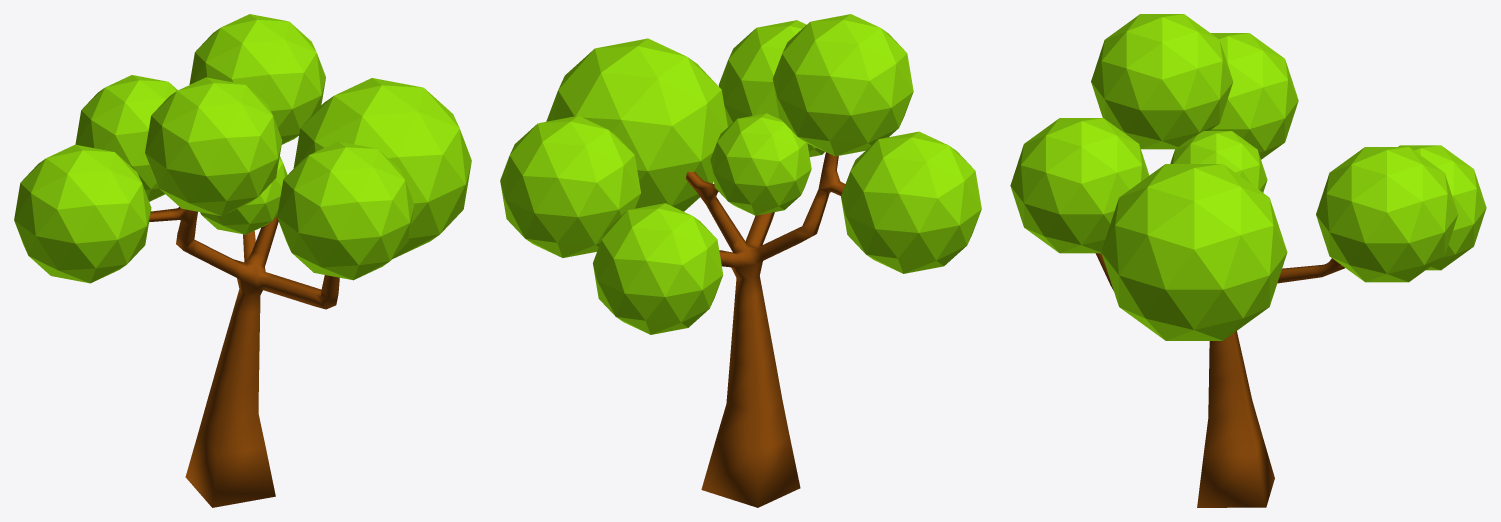
Rendered from tree.glb.
3 views of the same model, side by side, from view 1: azimuth 30°, elevation 25°; view 2: azimuth 150°, elevation 25°; view 3: azimuth 270°, elevation 25° (orthographic). The views are drawn at different scales.
Visible parts, largest first — view 1: Branch.002, Icosphere.008, Icosphere.009, Icosphere.007, Icosphere.010, Icosphere.012, Icosphere.013, Icosphere.011; view 2: Branch.002, Icosphere.010, Icosphere.007, Icosphere.008, Icosphere.012, Icosphere.013, Icosphere.011, Icosphere.009; view 3: Icosphere.010, Icosphere.012, Icosphere.008, Icosphere.009, Branch.002, Icosphere.007, Icosphere.013, Icosphere.011.
Boxes of the visible parts, <box> form: Branch.002: <box>149,207,339,507</box>; Icosphere.008: <box>145,77,282,215</box>; Icosphere.009: <box>277,141,414,280</box>; Icosphere.007: <box>14,144,151,283</box>; Icosphere.010: <box>293,78,471,258</box>; Icosphere.012: <box>189,14,325,144</box>; Icosphere.013: <box>75,75,177,201</box>; Icosphere.011: <box>200,156,287,234</box>; Branch.002: <box>685,152,845,507</box>; Icosphere.010: <box>546,38,727,211</box>; Icosphere.007: <box>841,131,981,273</box>; Icosphere.008: <box>772,14,913,156</box>; Icosphere.012: <box>500,115,640,257</box>; Icosphere.013: <box>593,203,723,334</box>; Icosphere.011: <box>710,113,811,215</box>; Icosphere.009: <box>718,20,824,156</box>; Icosphere.010: <box>1101,164,1287,340</box>; Icosphere.012: <box>1316,147,1458,282</box>; Icosphere.008: <box>1091,14,1233,149</box>; Icosphere.009: <box>1010,118,1149,253</box>; Branch.002: <box>1095,253,1344,507</box>; Icosphere.007: <box>1210,33,1298,159</box>; Icosphere.013: <box>1398,145,1486,270</box>; Icosphere.011: <box>1170,131,1267,192</box>.
Size of the model in its own units: 4.85 by 4.96 by 4.74.
